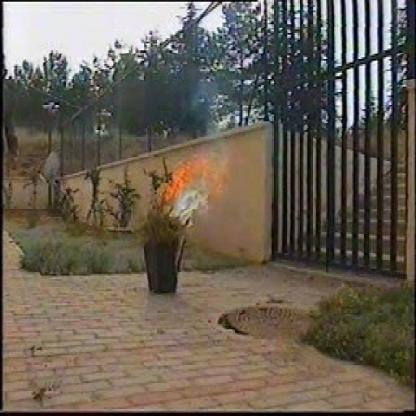fire: (129, 132, 235, 250)
